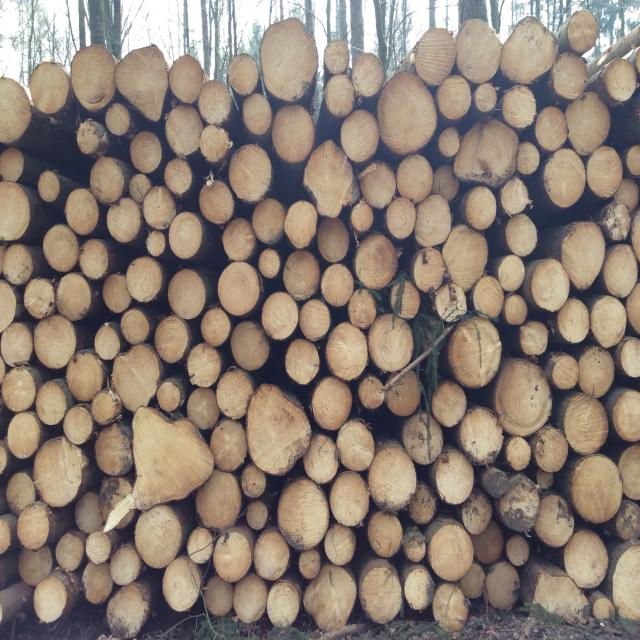wood-log: (133, 408, 213, 510), (245, 385, 311, 476), (259, 19, 317, 101), (375, 72, 435, 151), (492, 360, 552, 437), (116, 45, 172, 118), (447, 316, 503, 388), (301, 144, 354, 220), (458, 119, 521, 181), (30, 439, 84, 509), (278, 482, 331, 552), (568, 454, 622, 522), (500, 19, 557, 83), (305, 564, 357, 632), (113, 345, 163, 411), (369, 446, 418, 511), (69, 48, 117, 114), (558, 221, 605, 287), (134, 507, 183, 569), (444, 226, 491, 290), (458, 21, 503, 86), (562, 393, 608, 454), (196, 470, 242, 530), (357, 559, 400, 623), (457, 407, 504, 464), (366, 317, 413, 374), (427, 524, 473, 582), (562, 530, 607, 588), (542, 151, 586, 210), (271, 106, 315, 164), (565, 94, 609, 152), (325, 322, 369, 380), (231, 147, 274, 205), (414, 27, 457, 85), (496, 476, 539, 533), (538, 572, 587, 622), (218, 262, 262, 316), (354, 235, 397, 290), (328, 472, 371, 526), (107, 582, 148, 638), (311, 375, 353, 429), (26, 64, 69, 116), (430, 453, 473, 505), (33, 316, 75, 369), (533, 494, 574, 548), (401, 414, 445, 464), (528, 259, 570, 311), (162, 556, 202, 610), (92, 422, 132, 474), (613, 543, 640, 620), (0, 80, 31, 146), (342, 111, 381, 163), (213, 530, 252, 582), (98, 477, 136, 530), (168, 268, 208, 318), (586, 146, 624, 198), (337, 420, 375, 472), (208, 418, 246, 470), (602, 245, 639, 298), (231, 322, 271, 371), (165, 105, 204, 155), (215, 367, 254, 417), (65, 352, 104, 402), (590, 295, 626, 348), (415, 194, 451, 247), (254, 530, 291, 581), (262, 292, 300, 341), (578, 346, 615, 396), (303, 434, 340, 484), (0, 181, 30, 242), (282, 252, 320, 300), (42, 224, 79, 272), (431, 580, 465, 632), (169, 54, 205, 103), (74, 489, 115, 532), (552, 52, 589, 99), (234, 575, 269, 624), (126, 257, 164, 302), (56, 273, 93, 319), (361, 162, 398, 208), (33, 573, 67, 623), (65, 188, 100, 236), (168, 212, 203, 260), (155, 316, 190, 364), (283, 200, 318, 248), (484, 560, 519, 608), (2, 367, 39, 412), (398, 156, 435, 201), (7, 413, 43, 459), (266, 580, 300, 628), (368, 511, 404, 556), (253, 198, 288, 244), (200, 180, 237, 223), (349, 53, 385, 97), (438, 76, 474, 120), (185, 343, 221, 387), (432, 384, 468, 428), (90, 158, 125, 203), (535, 428, 570, 473), (285, 338, 319, 384), (534, 105, 568, 151), (18, 503, 52, 549), (565, 11, 601, 54), (462, 187, 498, 230), (198, 81, 233, 125), (320, 263, 355, 307), (556, 298, 590, 343), (37, 379, 70, 425), (141, 187, 177, 229), (108, 198, 142, 242), (319, 218, 353, 262), (504, 86, 538, 129), (473, 276, 507, 319), (0, 324, 34, 367), (203, 574, 236, 618), (223, 218, 256, 262), (604, 58, 637, 102), (612, 391, 640, 442), (386, 374, 420, 416), (414, 248, 445, 294), (187, 389, 221, 430), (2, 242, 35, 284), (506, 215, 538, 258), (84, 561, 115, 605), (300, 299, 333, 340), (404, 565, 434, 610), (324, 76, 356, 118), (110, 544, 142, 586), (385, 197, 417, 239), (20, 547, 54, 586), (130, 132, 163, 172), (227, 55, 259, 96), (324, 523, 356, 564), (242, 93, 273, 135), (475, 522, 506, 564), (80, 240, 112, 280), (24, 278, 56, 318), (0, 582, 32, 622), (63, 405, 94, 445), (7, 472, 38, 512), (618, 444, 640, 499), (549, 352, 579, 391), (102, 274, 131, 314), (56, 530, 85, 570), (347, 289, 376, 329), (460, 496, 490, 534), (202, 308, 232, 346), (409, 487, 438, 526), (604, 202, 632, 242), (91, 389, 122, 425), (200, 126, 231, 162), (496, 254, 526, 291), (502, 178, 531, 215), (94, 324, 121, 362), (166, 159, 193, 197), (520, 319, 548, 355), (122, 309, 150, 345), (432, 168, 460, 204), (187, 526, 214, 563), (436, 282, 462, 320), (613, 176, 640, 212), (617, 502, 640, 544), (458, 564, 484, 600), (0, 279, 17, 334), (358, 375, 384, 409), (618, 338, 640, 378), (79, 121, 104, 156), (397, 281, 421, 317), (104, 103, 130, 136), (325, 42, 351, 75), (87, 529, 113, 562), (241, 464, 266, 498), (508, 437, 532, 472), (158, 381, 184, 412), (350, 202, 374, 235), (0, 149, 23, 183), (517, 142, 541, 174), (475, 84, 499, 115), (626, 282, 640, 334), (37, 170, 59, 202), (506, 294, 528, 325), (246, 501, 268, 531), (405, 534, 427, 564), (300, 548, 322, 578), (440, 128, 462, 158), (260, 247, 282, 277), (508, 536, 530, 565), (130, 173, 152, 201), (145, 229, 166, 257), (593, 596, 614, 622), (627, 146, 640, 178), (631, 215, 640, 259), (0, 515, 10, 553), (0, 442, 9, 477), (0, 355, 7, 385)
